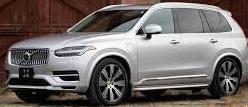SUV: (7, 4, 248, 106)
